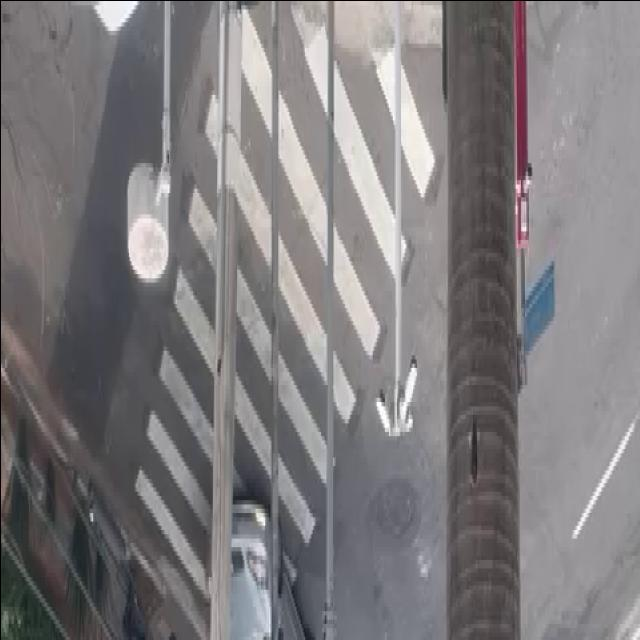car: (204, 491, 310, 640)
